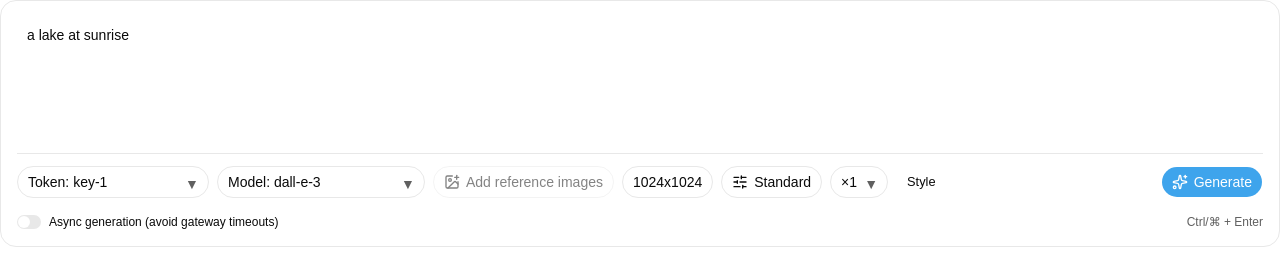
Test: generation form protects key interactions › only exposes counts allowed by the selected model
Step 1. Click the dropdown named "Count" → coordinates (859, 182), box [830,166,888,198]
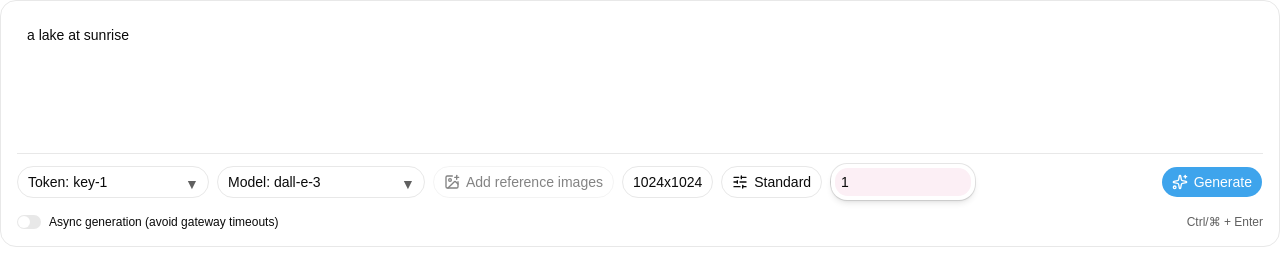
Check: the option "1" is shown, box [835,168,971,196]
